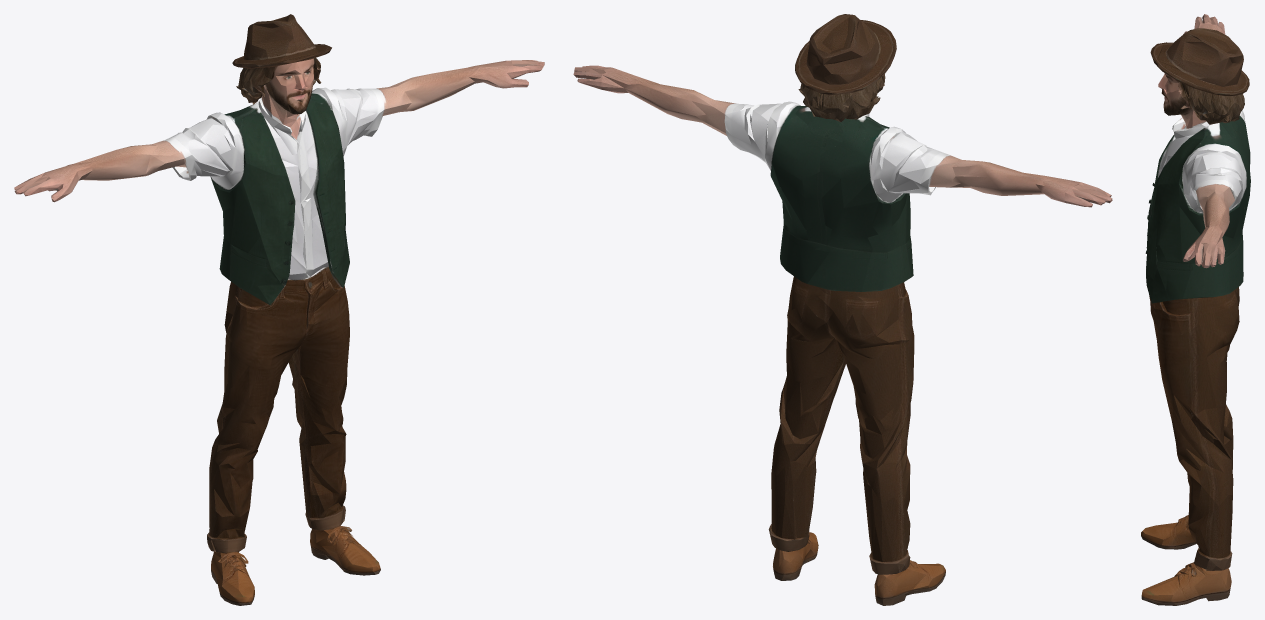
File: image3d.glb
3 renders of one model, left to right at view 1: azimuth 30°, elevation 25°; view 2: azimuth 150°, elevation 25°; view 3: azimuth 270°, elevation 25°, orthographic. The views are drawn at different scales.
Size of the model in its own units: 1.9 by 1.9 by 0.351.
Materials: 1 (1 with a texture image).
